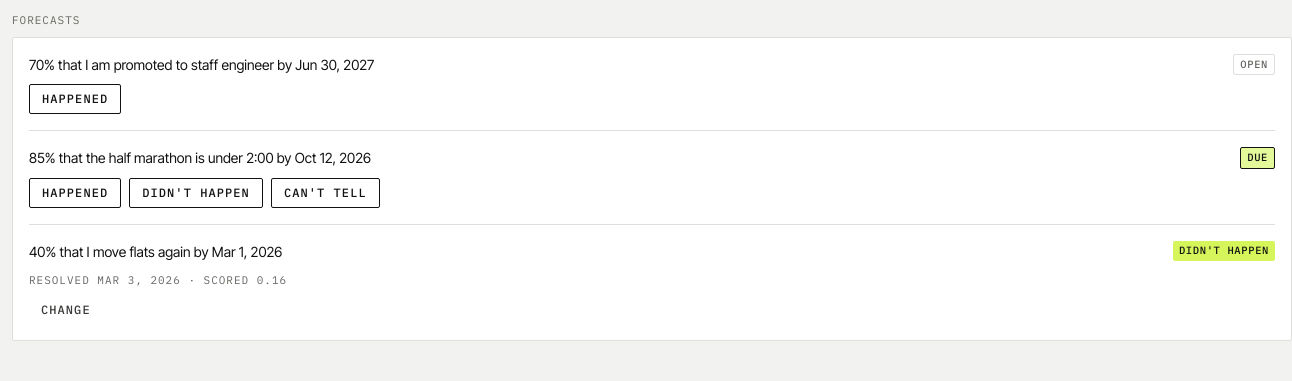
it: ForecastList › resolves at once and saves in the background
Click the 1st button "Happened". click: (75, 99)
box: [29,84,121,114]
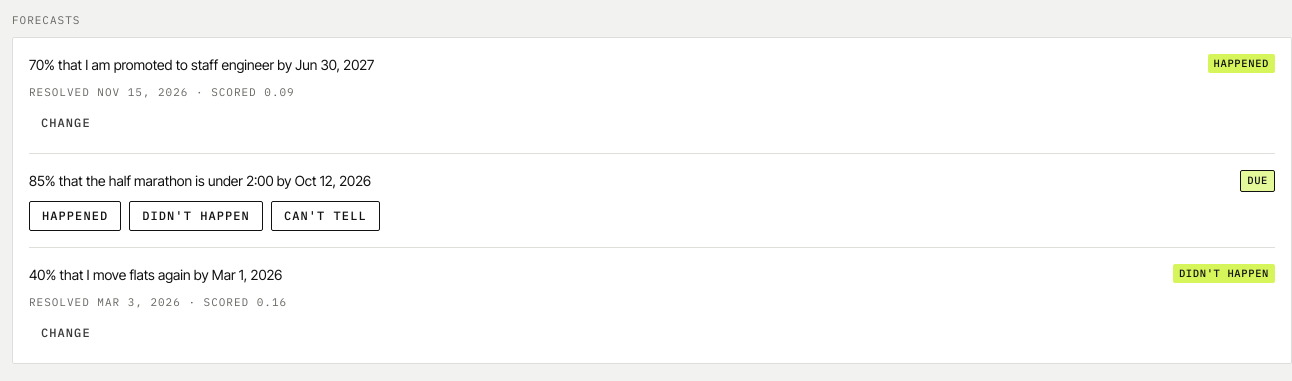
Expected: the text "Happened" is shown, [1208,54,1275,73]
